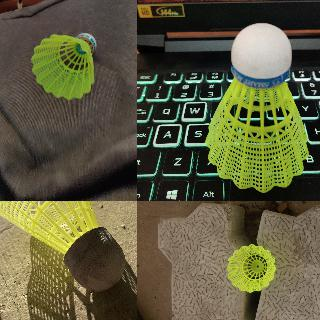shuttlecock: (205, 23, 307, 191), (0, 201, 124, 291), (32, 30, 94, 98), (227, 244, 276, 292)
